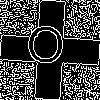O: (25, 25, 66, 73)
